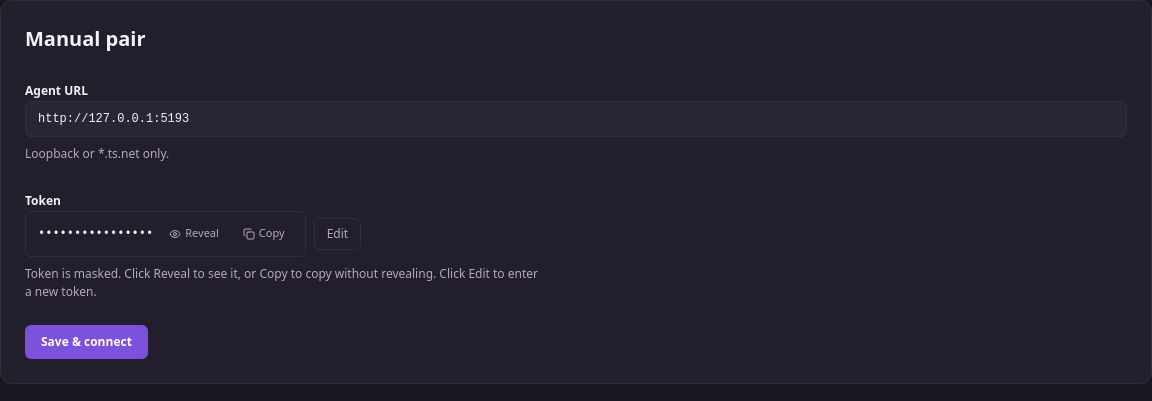
Scenario: D-6.1-03 MaskedToken integration › clicking Edit switches the field to a standard <input> with the current value
Click the button "Edit". click: point(337, 234)
box: [314, 218, 361, 250]
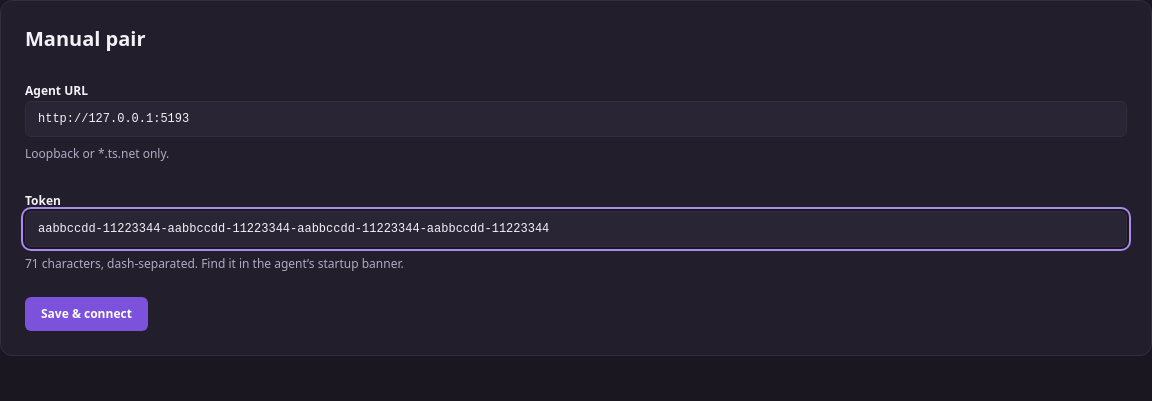
Now the field labelled "Token" holds "aabbccdd-11223344-aabbccdd-11223344-aabbccdd-11223344-aabbccdd-11223344", box [25, 210, 1127, 246]
